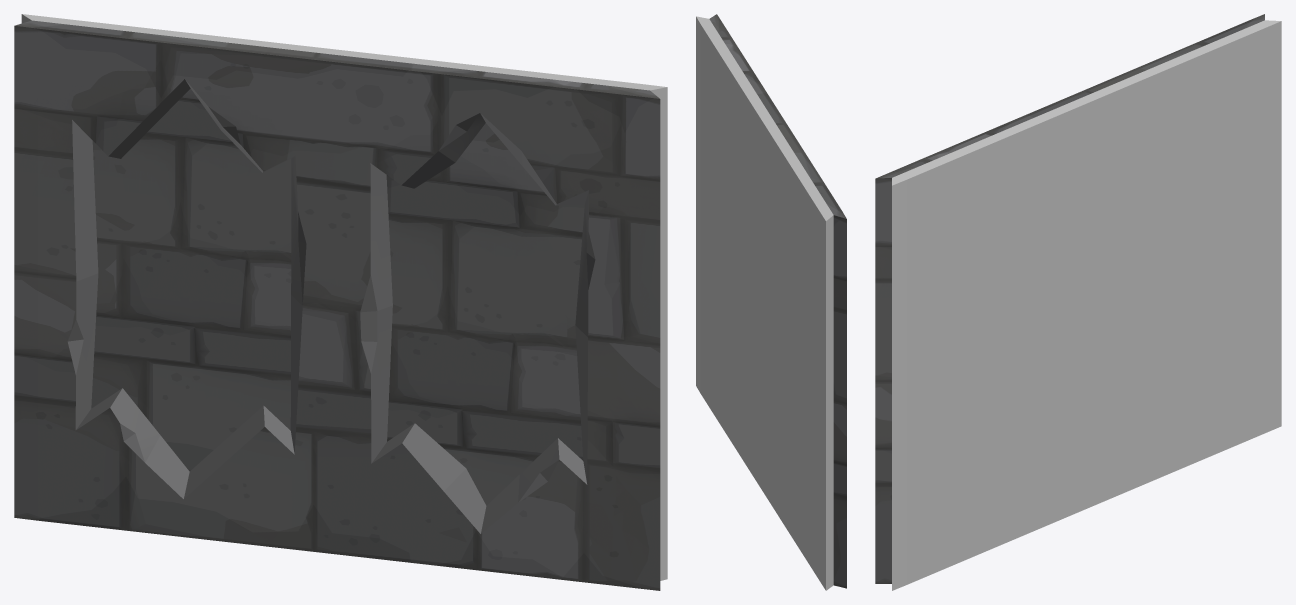
Rendered from SM_Bld_45_Wall_L_03.fbx.
3 views of the same model, side by side, from view 1: azimuth 30°, elevation 25°; view 2: azimuth 150°, elevation 25°; view 3: azimuth 270°, elevation 25° (orthographic). The views are drawn at different scales.
Parts seen in each view (by area): view 1: SM_Bld_45_Wall_L_03; view 2: SM_Bld_45_Wall_L_03; view 3: SM_Bld_45_Wall_L_03.
Part boxes in pixels (x1=…): SM_Bld_45_Wall_L_03: x1=14, y1=14, x2=667, y2=590; SM_Bld_45_Wall_L_03: x1=696, y1=14, x2=846, y2=590; SM_Bld_45_Wall_L_03: x1=875, y1=14, x2=1281, y2=590.
Bounding box in the file's own units: 545 × 601 × 545.
